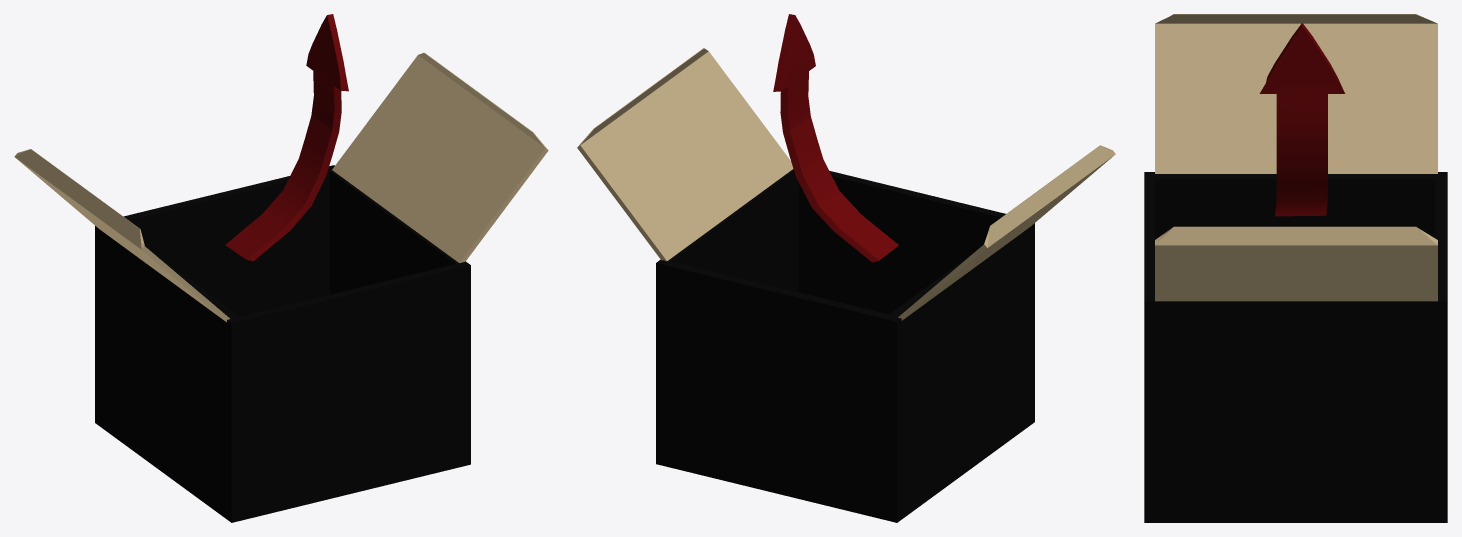
Rendered from IconUnpack.fbx.
3 views of the same model, side by side, from view 1: azimuth 30°, elevation 25°; view 2: azimuth 150°, elevation 25°; view 3: azimuth 270°, elevation 25° (orthographic). The views are drawn at different scales.
Visible parts, largest first — view 1: Box, pCube2; view 2: Box, pCube2; view 3: Box, pCube2.
Boxes of the visible parts, left/top/right/bottom form: Box: left=14, top=52, right=548, bottom=522; pCube2: left=225, top=14, right=348, bottom=261; Box: left=577, top=48, right=1115, bottom=522; pCube2: left=773, top=14, right=898, bottom=262; Box: left=1144, top=14, right=1447, bottom=522; pCube2: left=1259, top=23, right=1344, bottom=216.
Size of the model in its own units: 0.1706 by 0.1662 by 0.0992.
